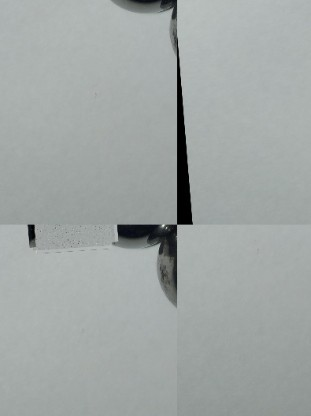ironball: (155, 230, 173, 306), (115, 224, 174, 244)
